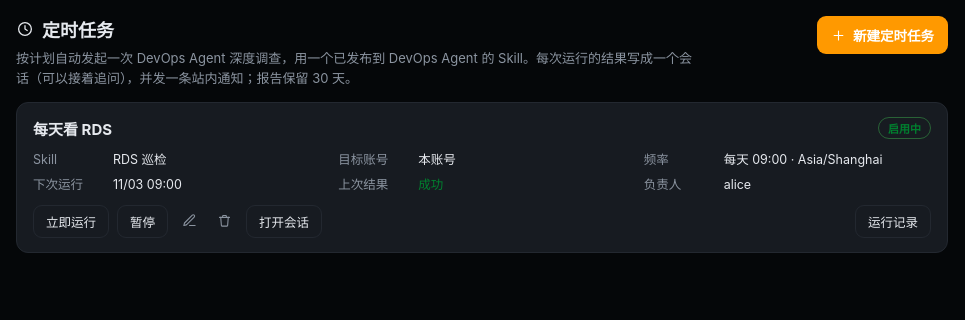
Test case: 定时任务页 › 立即运行 → 调接口并说「已发起」；后端回短码 → 人话
The width and height of the screenshot is (965, 320).
Expected: the text "每天看 RDS" is shown, [33,120,112,139]
Click the button "立即运行".
click(71, 222)  # box [33,205,109,238]
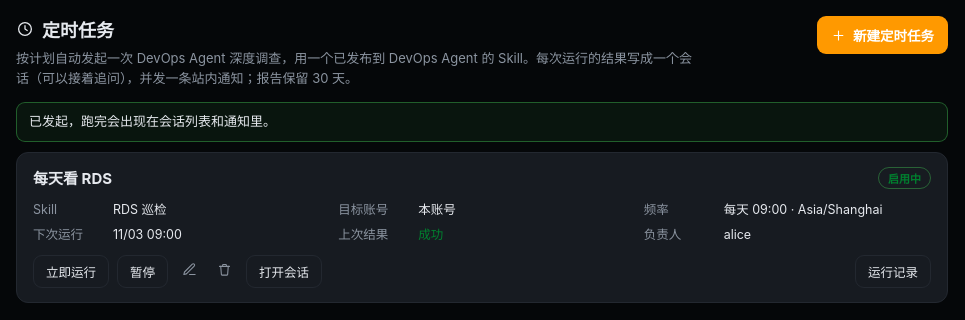
Expected: the text "已发起，跑完会出现在会话列表和通知里。" is shown, [16,102,948,142]
Click the button "立即运行".
click(71, 271)  # box [33,255,109,288]
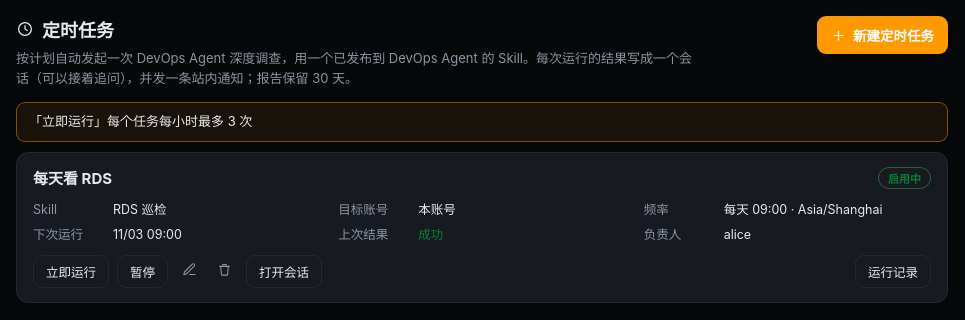
Expected: the text "「立即运行」每个任务每小时最多 3 次" is shown, [16,102,948,142]
